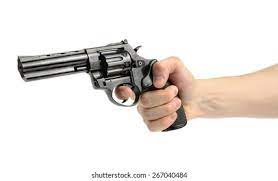gun: (17, 37, 188, 133)
